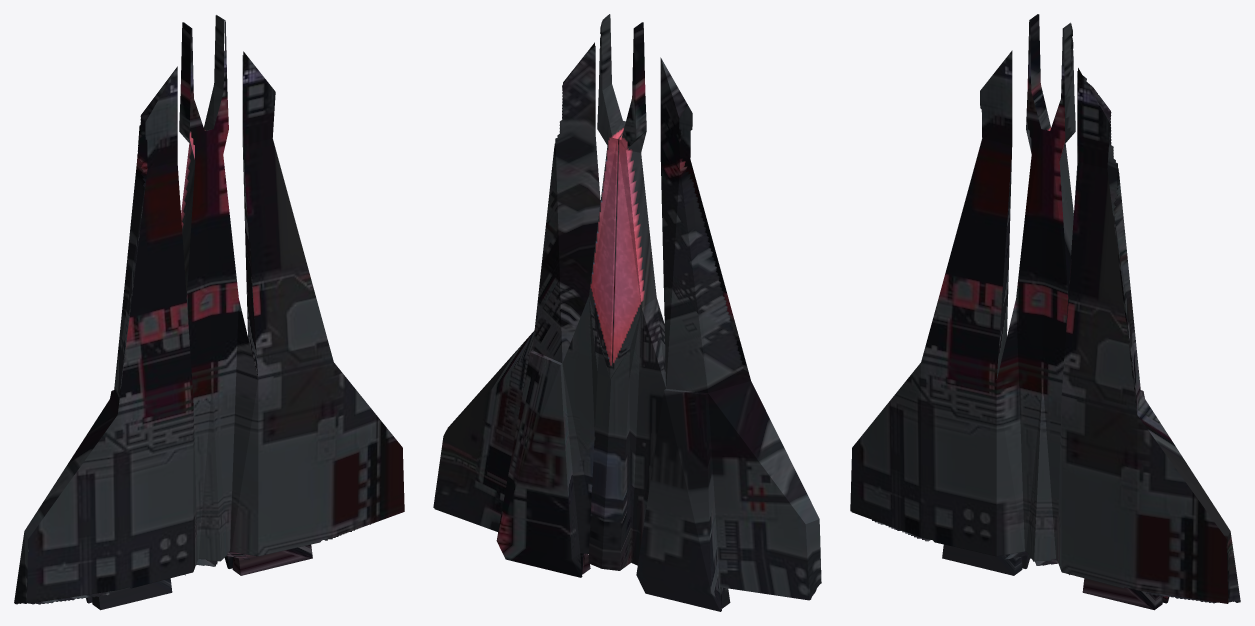
File: enemyFighter.dae
3 views of the same model, side by side, from view 1: azimuth 30°, elevation 25°; view 2: azimuth 150°, elevation 25°; view 3: azimuth 330°, elevation 25° (orthographic).
Visible parts, largest first — view 1: Fighter; view 2: Fighter; view 3: Fighter.
Boxes of the visible parts, x1,y1,x2,y2 form: Fighter: (14,15,404,610); Fighter: (433,14,821,611); Fighter: (850,14,1240,610).
Size of the model in its own units: 3.53 by 0.6808 by 5.
Materials: 3 (2 with a texture image).
